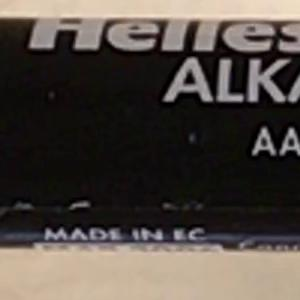ALK: (154, 50, 253, 111)
